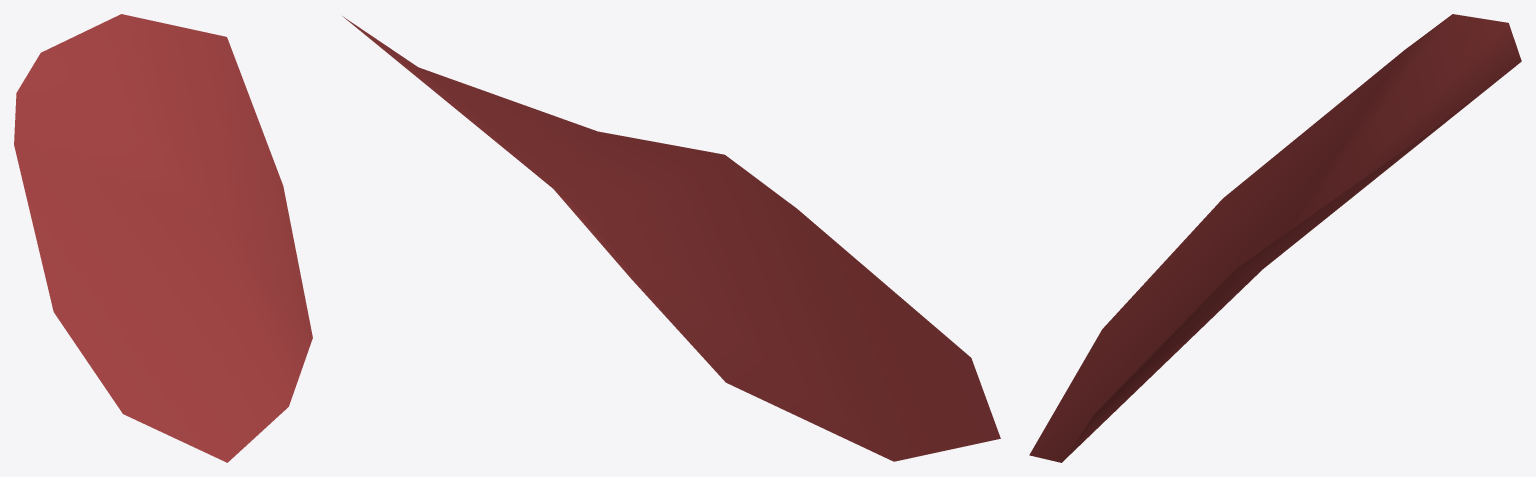
The model's file is extensor-digitorum-e5r.glb.
3 views of the same model, side by side, from view 1: azimuth 30°, elevation 25°; view 2: azimuth 150°, elevation 25°; view 3: azimuth 270°, elevation 25° (orthographic). The views are drawn at different scales.
Visible parts, largest first — view 1: Extensor digitorum.e5r; view 2: Extensor digitorum.e5r; view 3: Extensor digitorum.e5r.
Part boxes in pixels (x1,y1,x2,y2): Extensor digitorum.e5r: (14, 14, 312, 462); Extensor digitorum.e5r: (342, 16, 1000, 461); Extensor digitorum.e5r: (1029, 14, 1521, 462).
Size of the model in its own units: 0.00458 by 0.0055 by 0.00558.
